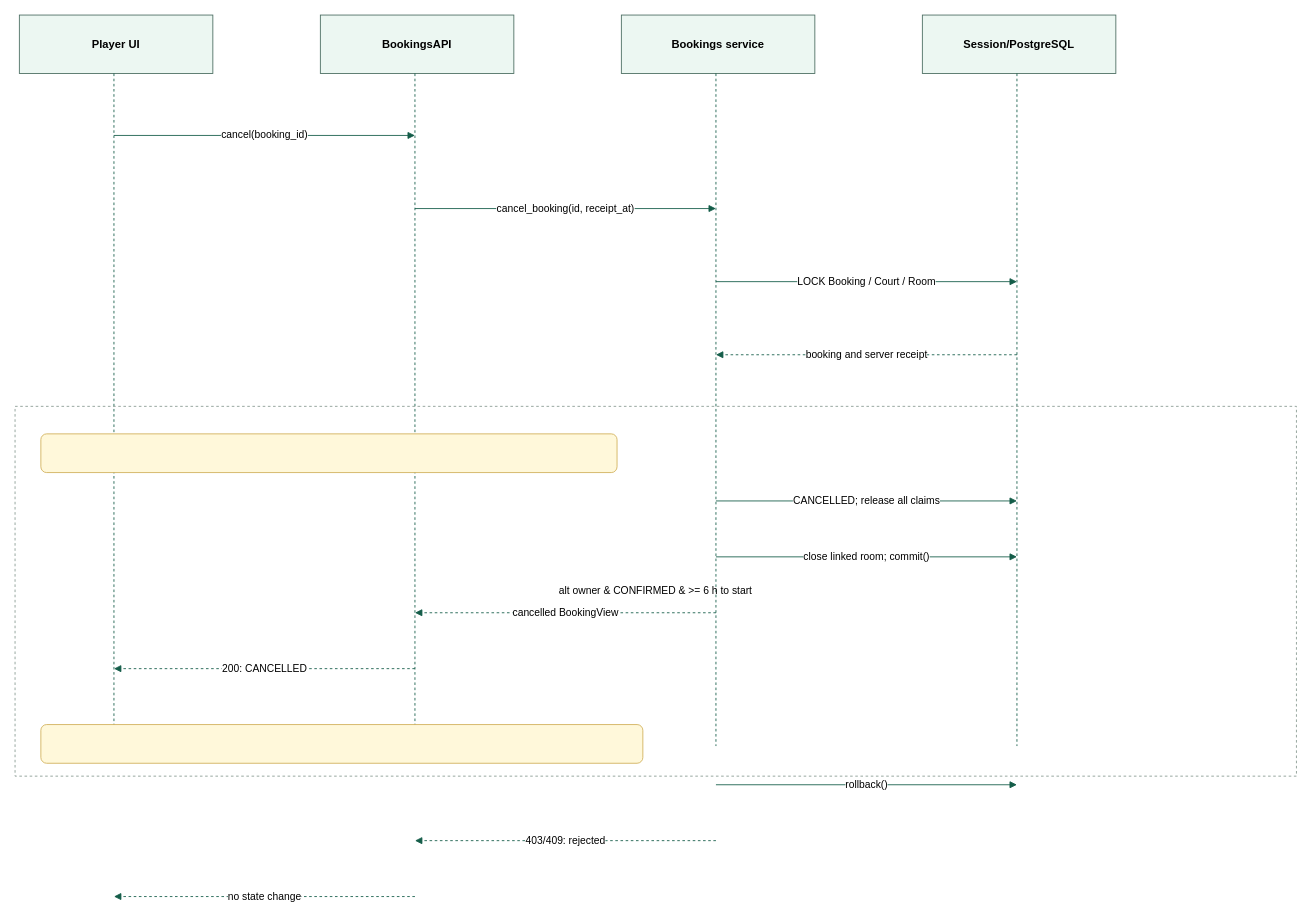
Image size: 1312x918. Some labels were removed from this diagram. The centre of each missing label's shape, as x and y in pixels:
"else Unmet guard / conflict" goes at point 341,743.
"Success / eligibility satisfied" goes at point 328,453.
